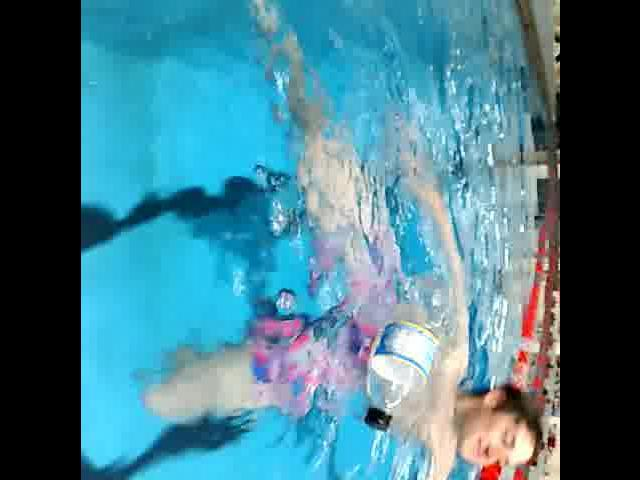Bottle: (356, 276, 458, 440)
